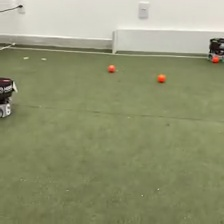ball: (156, 72, 166, 83), (211, 54, 220, 63), (107, 63, 115, 73)
goal: (110, 26, 224, 56)
robot: (1, 76, 19, 120), (207, 35, 224, 64)
